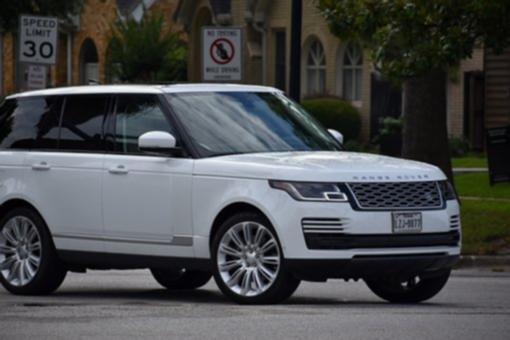range rover: (350, 169, 435, 188)
